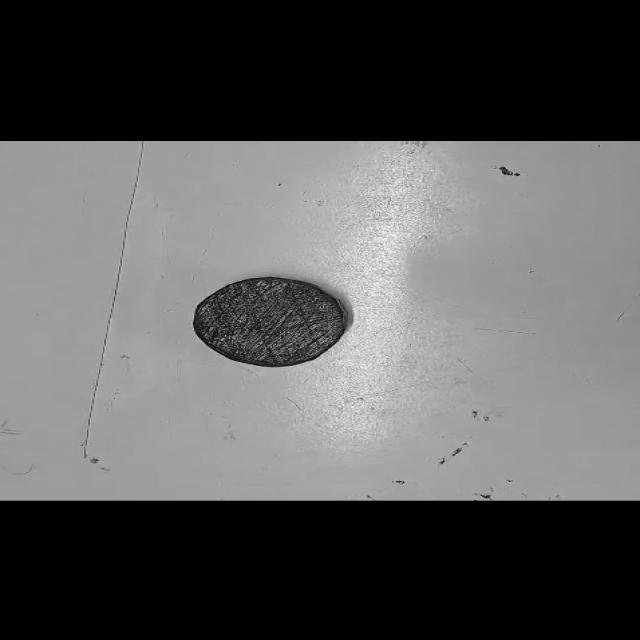bcircle: (193, 277, 348, 367)
